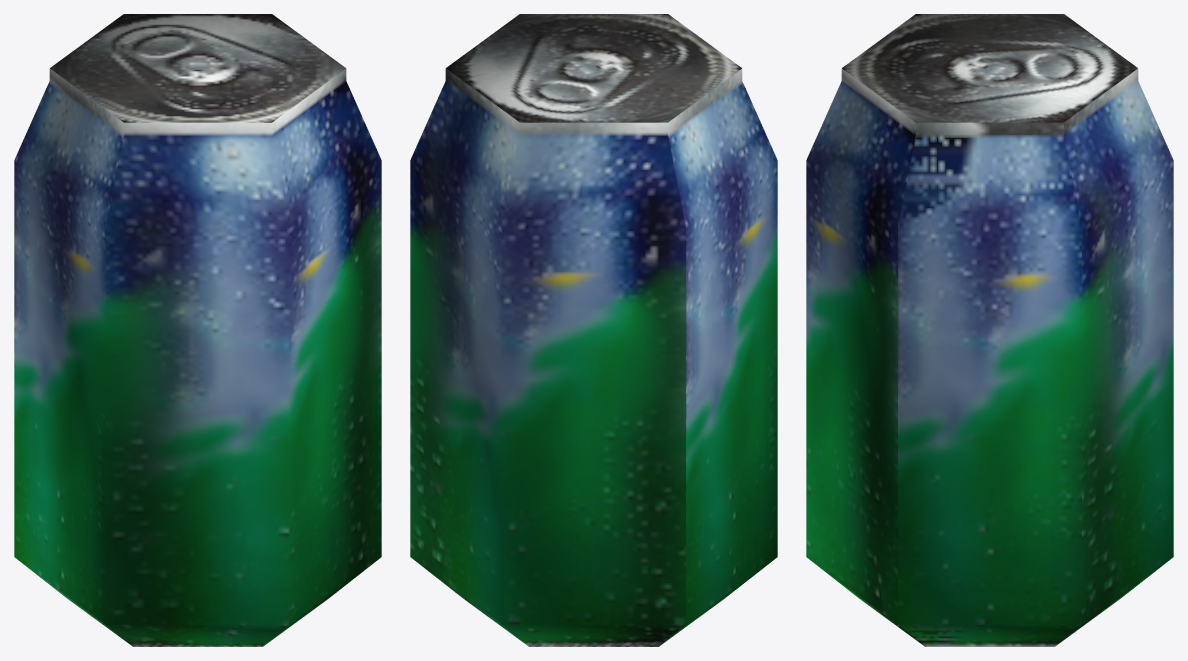
File: Can_Soda.glb
3 views of the same model, side by side, from view 1: azimuth 30°, elevation 25°; view 2: azimuth 150°, elevation 25°; view 3: azimuth 270°, elevation 25° (orthographic).
Visible parts, largest first — view 1: Can_Soda; view 2: Can_Soda; view 3: Can_Soda.
Boxes of the visible parts, x1,y1,x2,y2 form: Can_Soda: (14, 14, 381, 646); Can_Soda: (410, 14, 777, 646); Can_Soda: (806, 14, 1173, 646).
Size of the model in its own units: 0.1354 by 0.2494 by 0.1564.
1 material, 1 textured.
